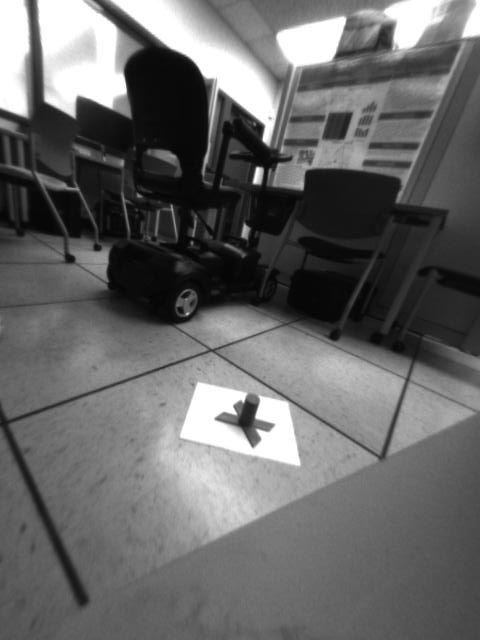X: (214, 394, 275, 449)
